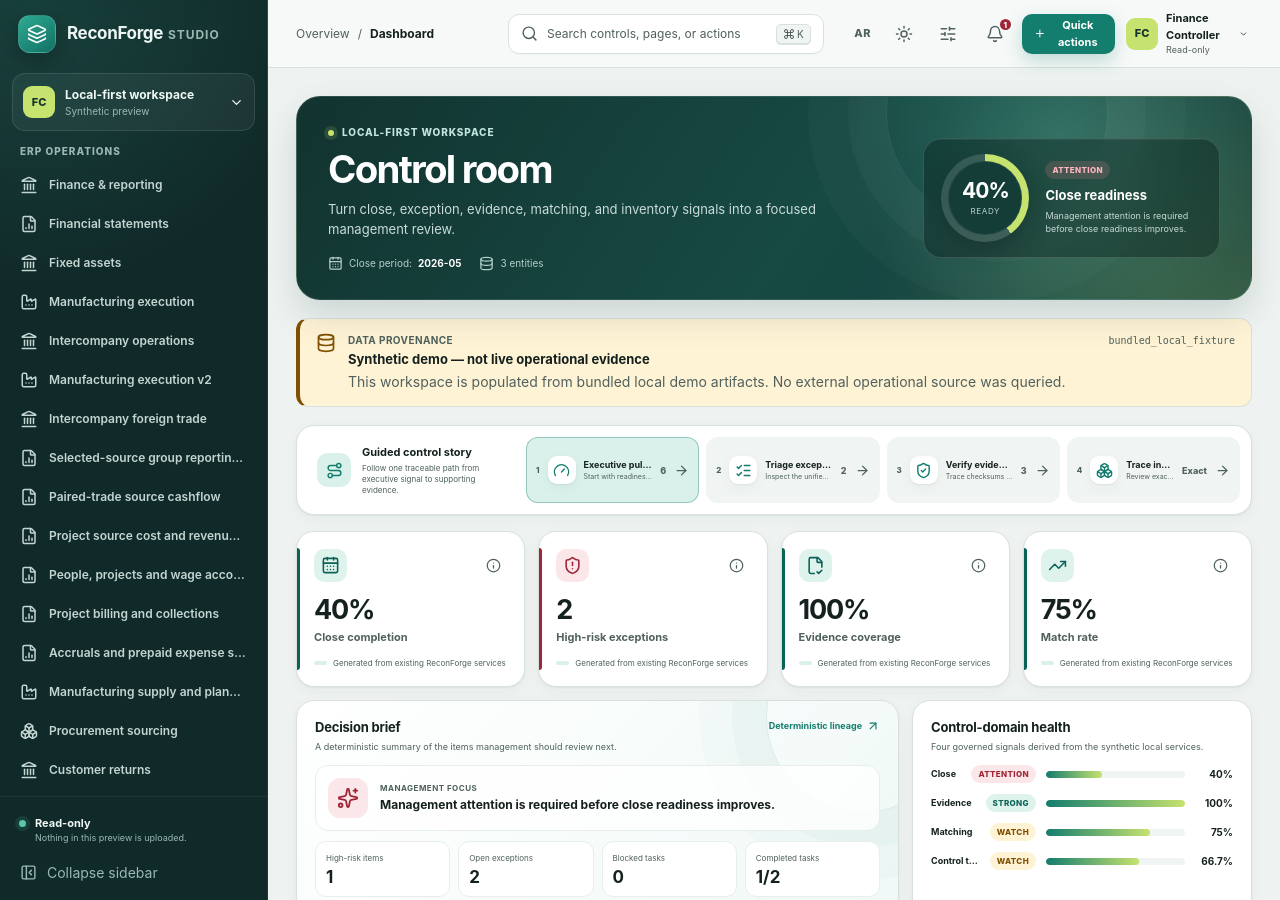
Test: follows the guided showcase from executive signal to the exception contract
The image size is (1280, 900).
Click the button "2 Triage exceptions Inspect the unified priority queue 2".
click(793, 470)  # box [706,437,880,503]
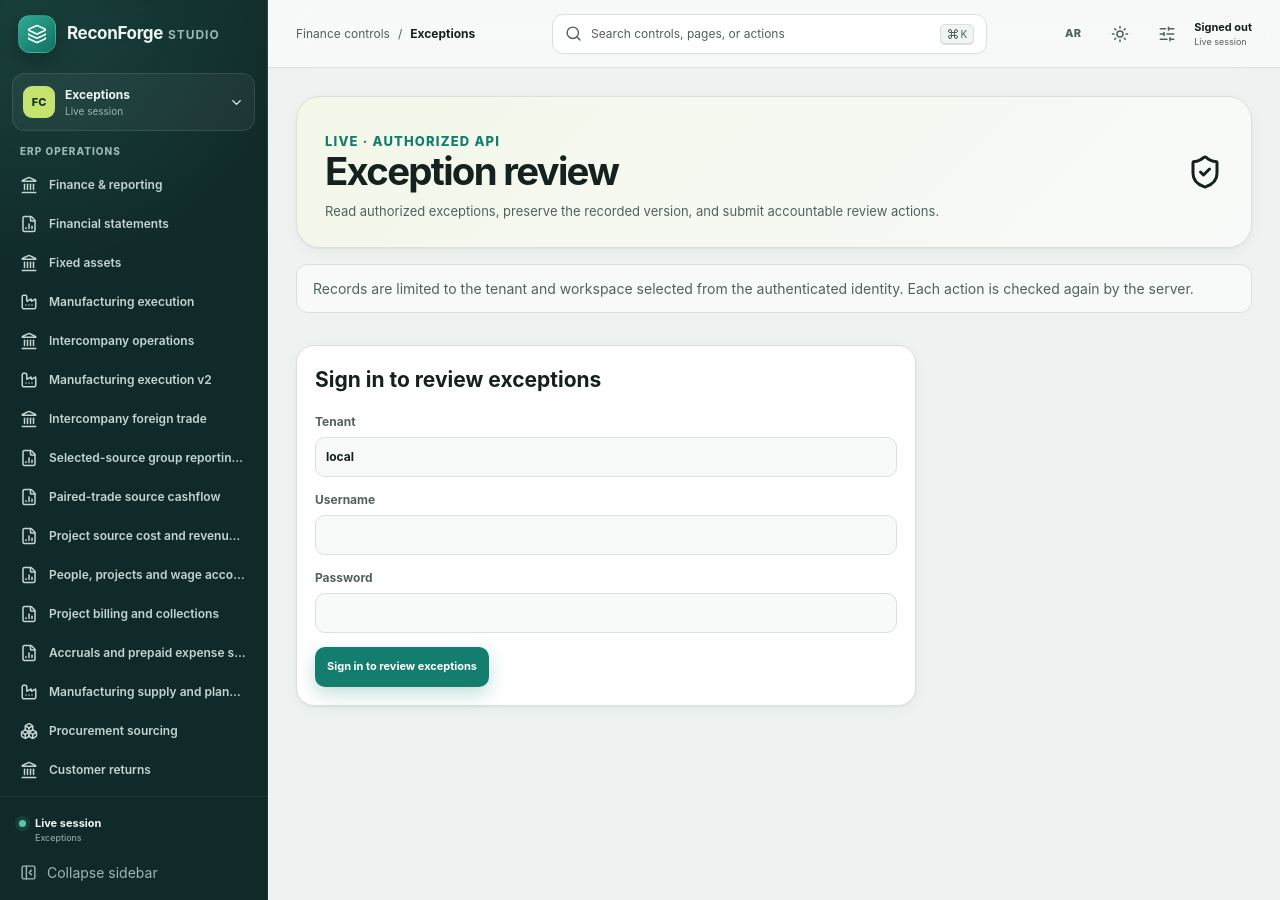
Expected: the heading "Exception review" is shown, [325,148,618,194]
Expected: the heading "Sign in to review exceptions" is shown, [315,367,601,392]
